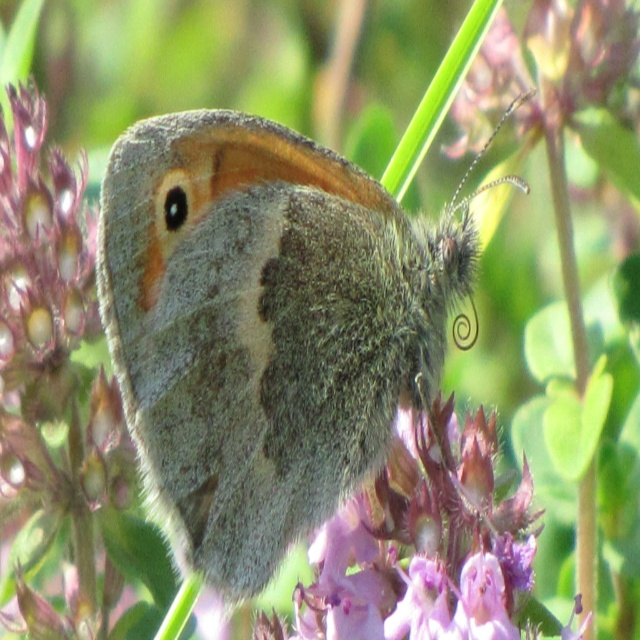Butterfly: (92, 91, 535, 616)
